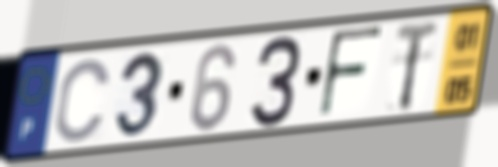3: (246, 31, 305, 131), (112, 48, 169, 141)
6: (187, 40, 238, 135)
C: (51, 55, 114, 146)
F: (315, 24, 386, 122)
T: (392, 17, 441, 115)
